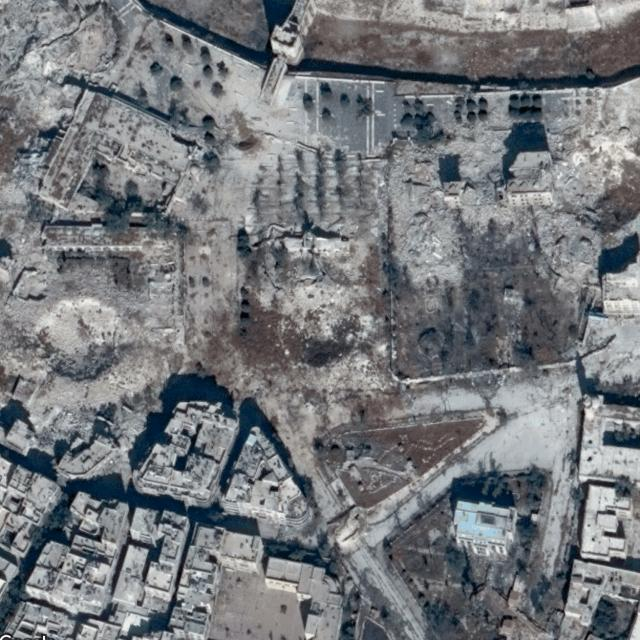damaged_building: (2, 216, 185, 497), (388, 113, 640, 293), (0, 0, 134, 198), (256, 226, 390, 385), (169, 108, 266, 172)
